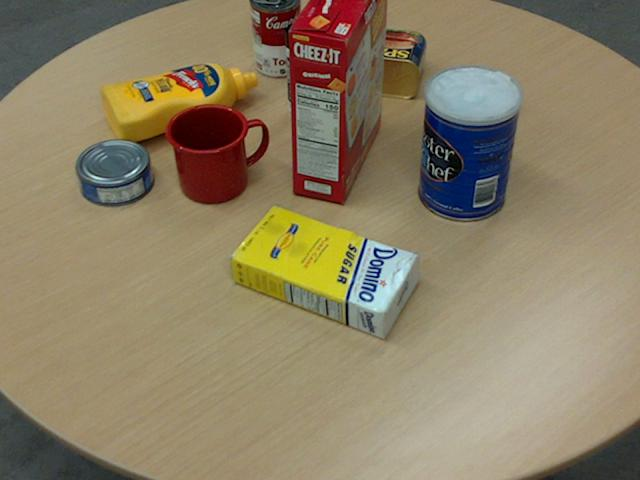cracker_box: (287, 0, 388, 202)
gelatin_box: (428, 70, 514, 136)
large_marker: (285, 23, 300, 112)
master_chef_can: (417, 65, 521, 222)
mug: (164, 102, 266, 202)
mustard_bottle: (100, 62, 257, 142)
potted_meat_can: (342, 26, 426, 98)
sugar_box: (227, 205, 419, 339)
tomato_soup_can: (250, 0, 302, 75)
tuna_fish_can: (75, 137, 152, 204)
